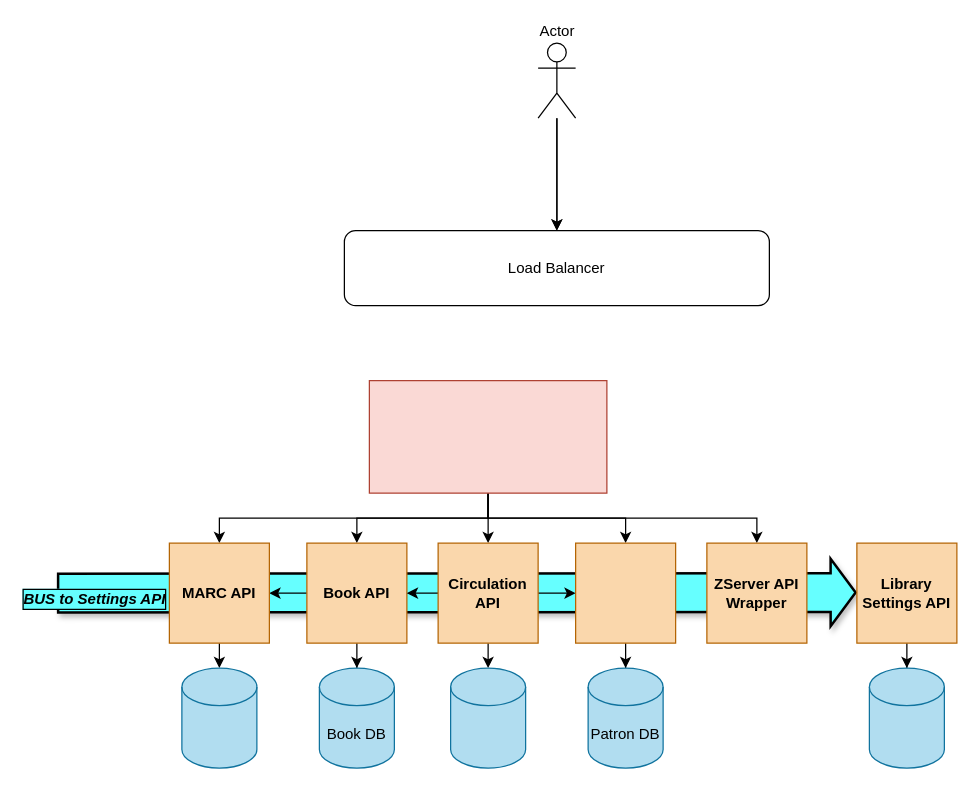
Image size: 979x790. Some labels were removed from this diagram. Each missing label, with the centre of its shape:
Circulation DB: the point at 487,717
MARC DB: the point at 219,717
Patron API: the point at 625,592
React Web Page: the point at 487,436
Settings DB: the point at 906,717
